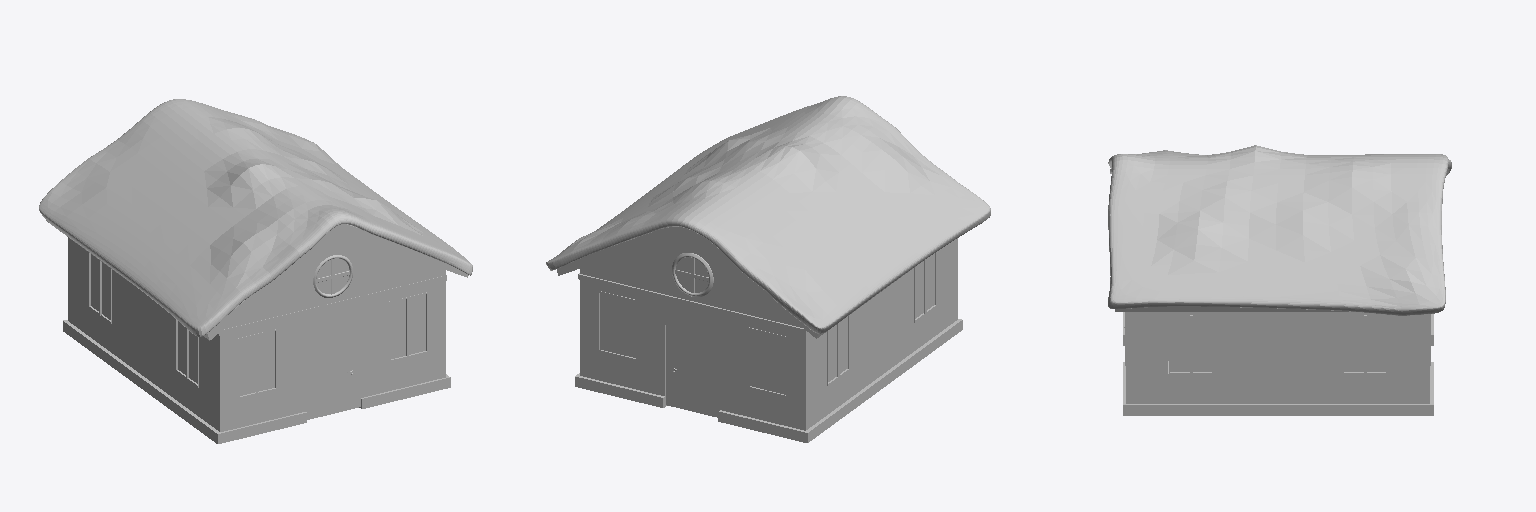
Rendered from chalet_old.obj.
The picture shows the model from 3 angles: view 1: azimuth 30°, elevation 25°; view 2: azimuth 150°, elevation 25°; view 3: azimuth 270°, elevation 25°; orthographic projection.
Parts seen in each view (by area): view 1: Snow; view 2: Snow; view 3: Snow.
Part boxes in pixels (x1,y1,x2,y2): Snow: (39, 99, 472, 443); Snow: (546, 96, 990, 442); Snow: (1108, 145, 1451, 415).
Size of the model in its own units: 301 by 209 by 317.